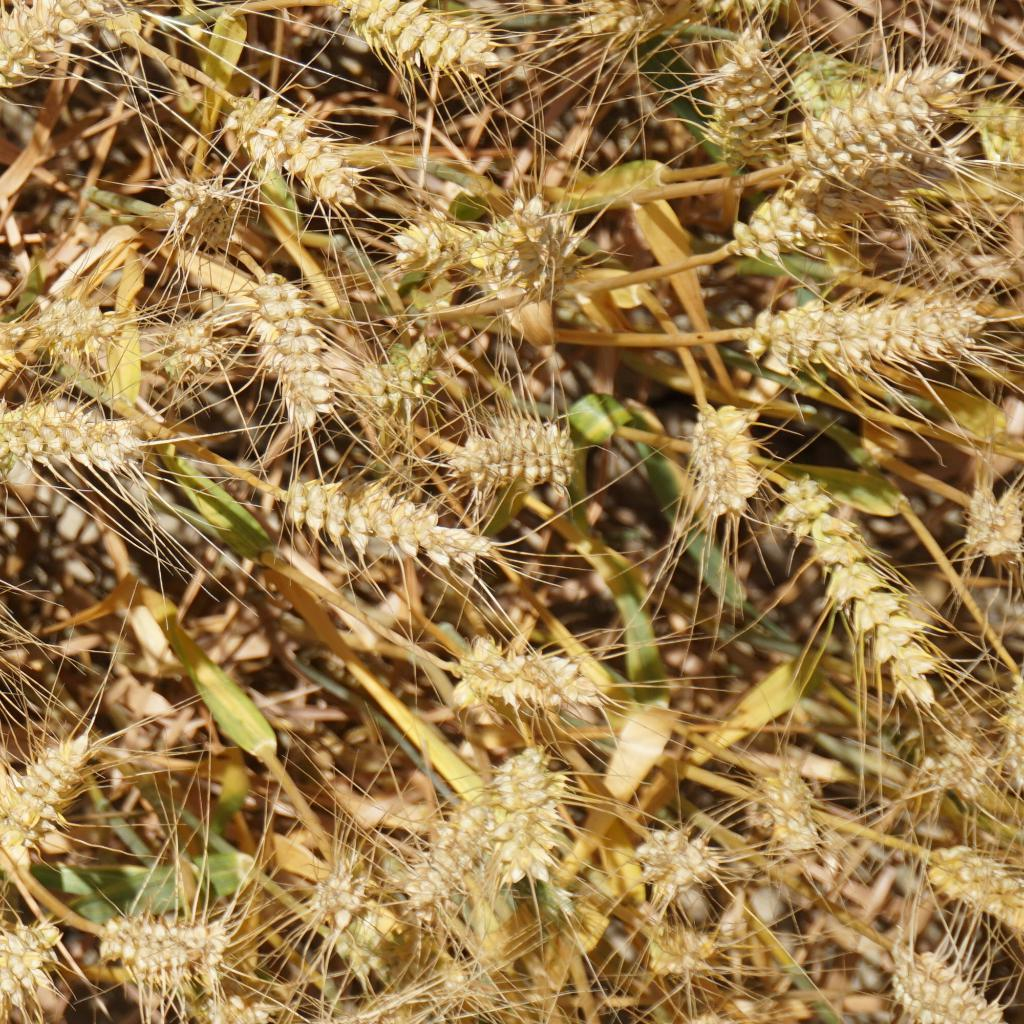0-0: (780, 473, 932, 709), (274, 470, 493, 570), (213, 78, 368, 203), (738, 297, 985, 375), (332, 0, 515, 82), (239, 268, 341, 412), (0, 379, 136, 466), (784, 71, 940, 143), (486, 748, 561, 896), (873, 943, 1007, 1024), (920, 827, 1024, 928), (0, 739, 96, 848), (449, 400, 574, 483), (400, 787, 483, 907), (456, 636, 594, 708), (92, 908, 236, 975), (475, 196, 577, 280), (0, 0, 118, 71), (561, 0, 793, 36), (630, 810, 722, 897), (705, 47, 779, 150), (689, 400, 756, 512), (753, 760, 826, 856), (160, 166, 246, 247), (304, 857, 387, 940), (0, 923, 67, 1024), (914, 726, 992, 812), (733, 190, 819, 259), (380, 203, 460, 277), (987, 638, 1024, 794), (153, 307, 227, 382), (362, 338, 435, 409), (967, 479, 1024, 549), (651, 915, 715, 975), (977, 96, 1024, 174), (41, 285, 102, 345), (0, 305, 34, 365)
